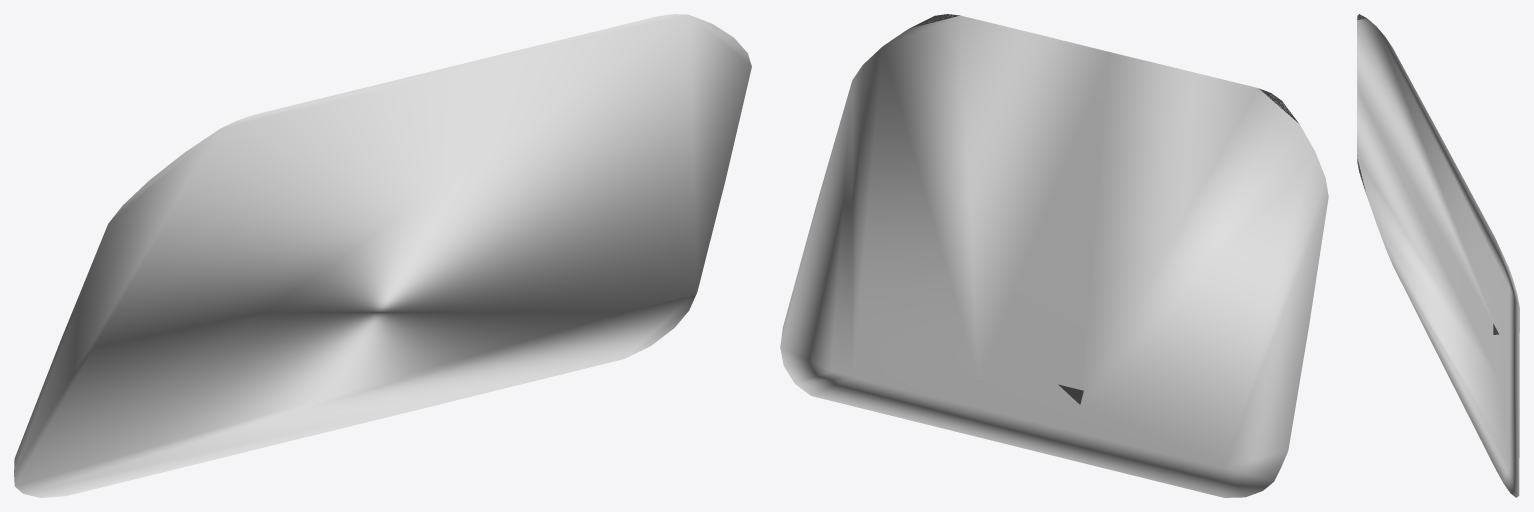
3 views of the same model, side by side, from view 1: azimuth 30°, elevation 25°; view 2: azimuth 150°, elevation 25°; view 3: azimuth 270°, elevation 25° (orthographic). The views are drawn at different scales.
Parts seen in each view (by area): view 1: grille_eclipse_head_l_1_01_col; view 2: grille_eclipse_head_l_1_01_col, grille_eclipse_head_l_1_01; view 3: grille_eclipse_head_l_1_01_col.
Boxes of the visible parts, left/top/right/bottom form: grille_eclipse_head_l_1_01_col: left=14, top=14, right=751, bottom=497; grille_eclipse_head_l_1_01_col: left=780, top=14, right=1328, bottom=497; grille_eclipse_head_l_1_01: left=909, top=14, right=1298, bottom=404; grille_eclipse_head_l_1_01_col: left=1357, top=16, right=1519, bottom=497.
Size of the model in its own units: 0.3387 by 0.2134 by 0.1009.
1 material, 1 textured.
